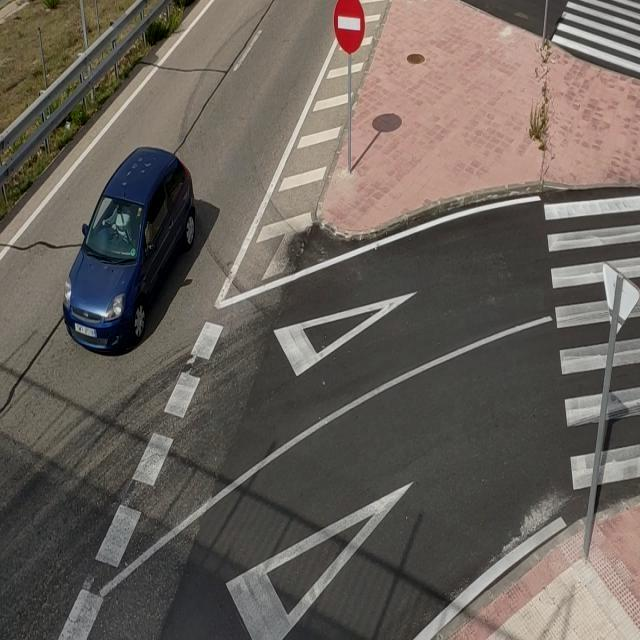Car: (61, 144, 200, 358)
